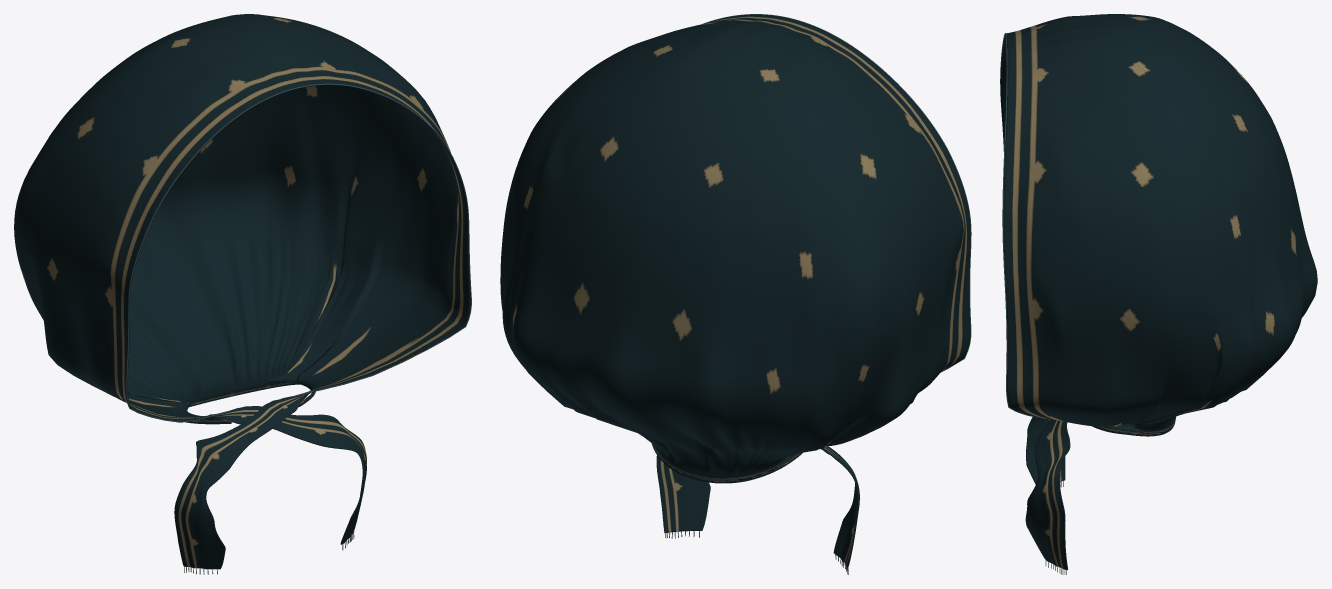
File: Feminine-bob-strappy-pashmina249-headgear.glb
3 renders of one model, left to right at view 1: azimuth 30°, elevation 25°; view 2: azimuth 150°, elevation 25°; view 3: azimuth 270°, elevation 25°, orthographic. The views are drawn at different scales.
Parts seen in each view (by area): view 1: 226 headgear / Headwear / continuous woven pashmina239, 226 headgear / Headwear / face edge239; view 2: 226 headgear / Headwear / continuous woven pashmina239, 226 headgear / Headwear / face edge239; view 3: 226 headgear / Headwear / continuous woven pashmina239, 226 headgear / Headwear / face edge239.
Part boxes in pixels (box(x1,y1,x2,y2)): 226 headgear / Headwear / continuous woven pashmina239: box(14, 14, 470, 569); 226 headgear / Headwear / face edge239: box(126, 83, 471, 422); 226 headgear / Headwear / continuous woven pashmina239: box(500, 14, 970, 568); 226 headgear / Headwear / face edge239: box(703, 14, 971, 371); 226 headgear / Headwear / continuous woven pashmina239: box(1000, 14, 1317, 570); 226 headgear / Headwear / face edge239: box(1000, 33, 1041, 418).
Bounding box in the file's own units: 1.08 × 1.41 × 0.806.
3 materials, 1 textured.
